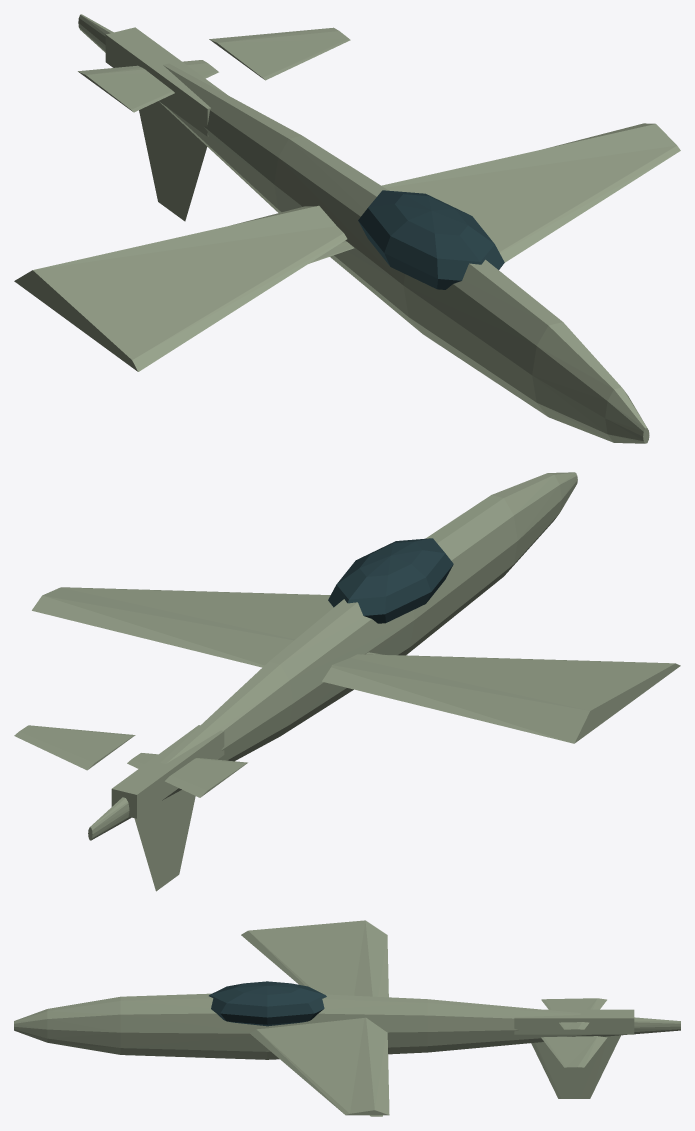
3 renders of one model, top to bottom at view 1: azimuth 30°, elevation 25°; view 2: azimuth 150°, elevation 25°; view 3: azimuth 270°, elevation 25°, orthographic. The views are drawn at different scales.
Visible parts, largest first — view 1: Fuselage, Wing_L, Wing_R, Cockpit, Rudder, TailBoom, Elevator_R, Elevator_L; view 2: Fuselage, Wing_L, Wing_R, Cockpit, Rudder, TailBoom, Elevator_R, Elevator_L; view 3: Fuselage, Wing_R, Wing_L, Cockpit, TailBoom, Rudder, Elevator_R, Elevator_L.
Part boxes in pixels (<box>): Fuselage: <box>78,14,649,443</box>; Wing_L: <box>14,205,347,371</box>; Wing_R: <box>381,123,680,262</box>; Cockpit: <box>358,190,504,289</box>; Rudder: <box>139,101,206,221</box>; TailBoom: <box>105,27,226,136</box>; Elevator_R: <box>209,27,350,80</box>; Elevator_L: <box>78,60,218,112</box>; Fuselage: <box>88,472,577,840</box>; Wing_L: <box>322,654,680,743</box>; Wing_R: <box>32,587,333,667</box>; Cockpit: <box>328,538,453,623</box>; Rudder: <box>134,789,195,891</box>; TailBoom: <box>111,725,224,818</box>; Elevator_R: <box>14,725,135,770</box>; Elevator_L: <box>127,753,247,797</box>; Fuselage: <box>14,993,680,1059</box>; Wing_R: <box>250,1017,389,1115</box>; Wing_L: <box>241,920,388,997</box>; Cockpit: <box>209,981,326,1026</box>; TailBoom: <box>514,1009,634,1034</box>; Rudder: <box>531,1035,620,1098</box>; Elevator_R: <box>541,1036,607,1067</box>; Elevator_L: <box>541,998,606,1029</box>.
Size of the model in its own units: 12.53 by 3.63 by 19.43.
